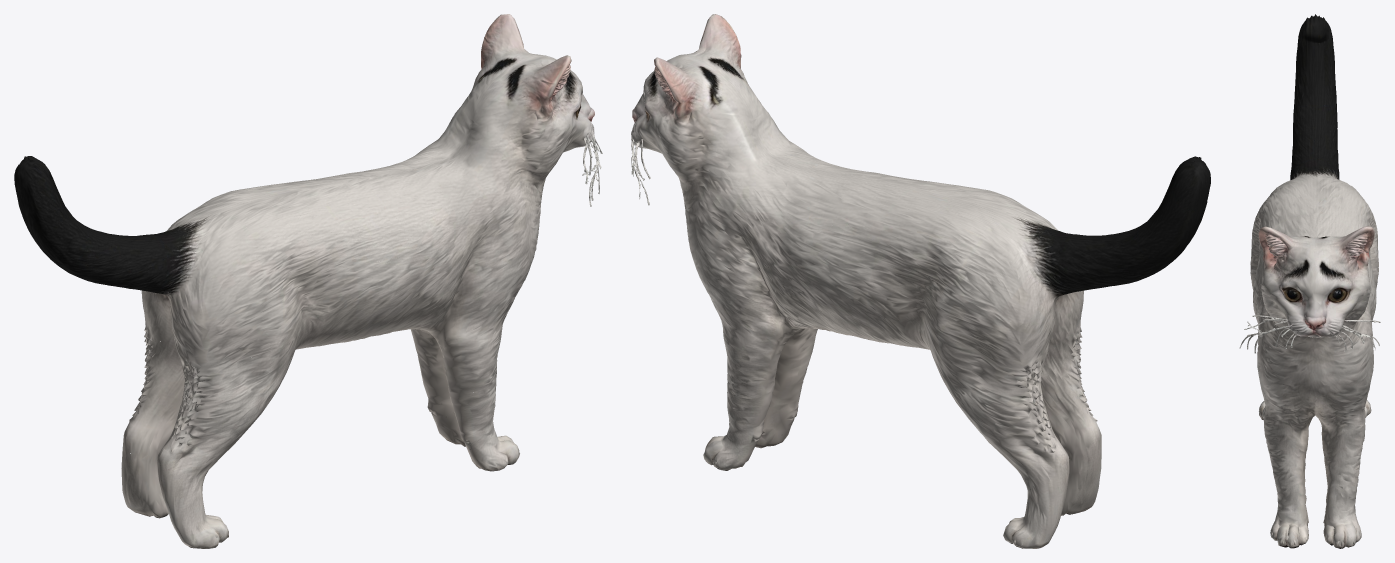
The model's file is SAMBROWS.glb.
3 renders of one model, left to right at view 1: azimuth 30°, elevation 25°; view 2: azimuth 150°, elevation 25°; view 3: azimuth 270°, elevation 25°, orthographic. The views are drawn at different scales.
Visible parts, largest first — view 1: tripo_node_d7df31a5-1f29-48ab-ad77-9ddfb50287e2; view 2: tripo_node_d7df31a5-1f29-48ab-ad77-9ddfb50287e2; view 3: tripo_node_d7df31a5-1f29-48ab-ad77-9ddfb50287e2.
Part boxes in pixels (x1=…): tripo_node_d7df31a5-1f29-48ab-ad77-9ddfb50287e2: x1=14, y1=14, x2=602, y2=548; tripo_node_d7df31a5-1f29-48ab-ad77-9ddfb50287e2: x1=631, y1=14, x2=1210, y2=548; tripo_node_d7df31a5-1f29-48ab-ad77-9ddfb50287e2: x1=1239, y1=14, x2=1380, y2=548.
Bounding box in the file's own units: 1.48 × 0.9994 × 0.3736.
1 material, 1 textured.
